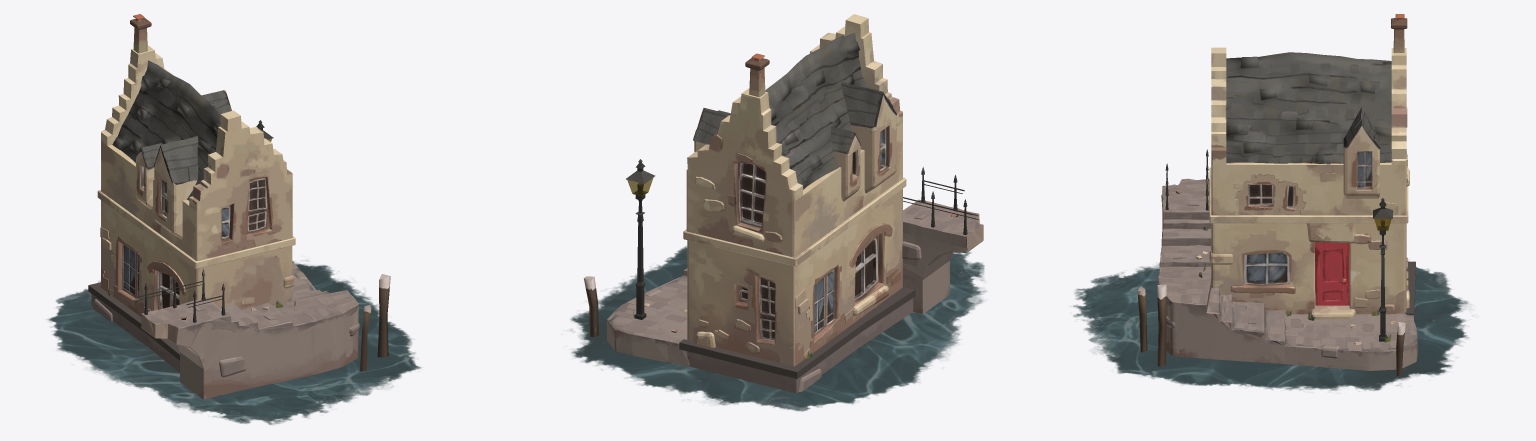
3 views of the same model, side by side, from view 1: azimuth 30°, elevation 25°; view 2: azimuth 150°, elevation 25°; view 3: azimuth 270°, elevation 25° (orthographic). The views are drawn at different scales.
Parts seen in each view (by area): view 1: soloport_props_high_poly, soloport_house_highpoly, soloport_alpha; view 2: soloport_house_highpoly, soloport_props_high_poly, soloport_alpha; view 3: soloport_props_high_poly, soloport_house_highpoly, soloport_alpha.
Boxes of the visible parts, x1,y1,x2,y2 form: soloport_props_high_poly: [88, 14, 390, 399]; soloport_house_highpoly: [97, 45, 295, 316]; soloport_alpha: [47, 138, 421, 424]; soloport_house_highpoly: [683, 14, 906, 366]; soloport_props_high_poly: [583, 32, 983, 393]; soloport_alpha: [570, 177, 986, 411]; soloport_props_high_poly: [1137, 14, 1417, 375]; soloport_house_highpoly: [1209, 47, 1408, 319]; soloport_alpha: [1073, 218, 1468, 390].
Bounding box in the file's own units: 1067 × 722 × 1067.
3 materials, 3 textured.
